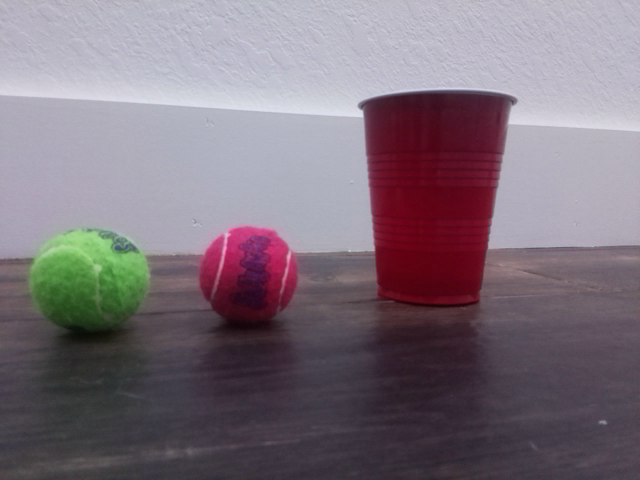green-ball: (28, 225, 151, 336)
red-ball: (197, 224, 299, 328)
